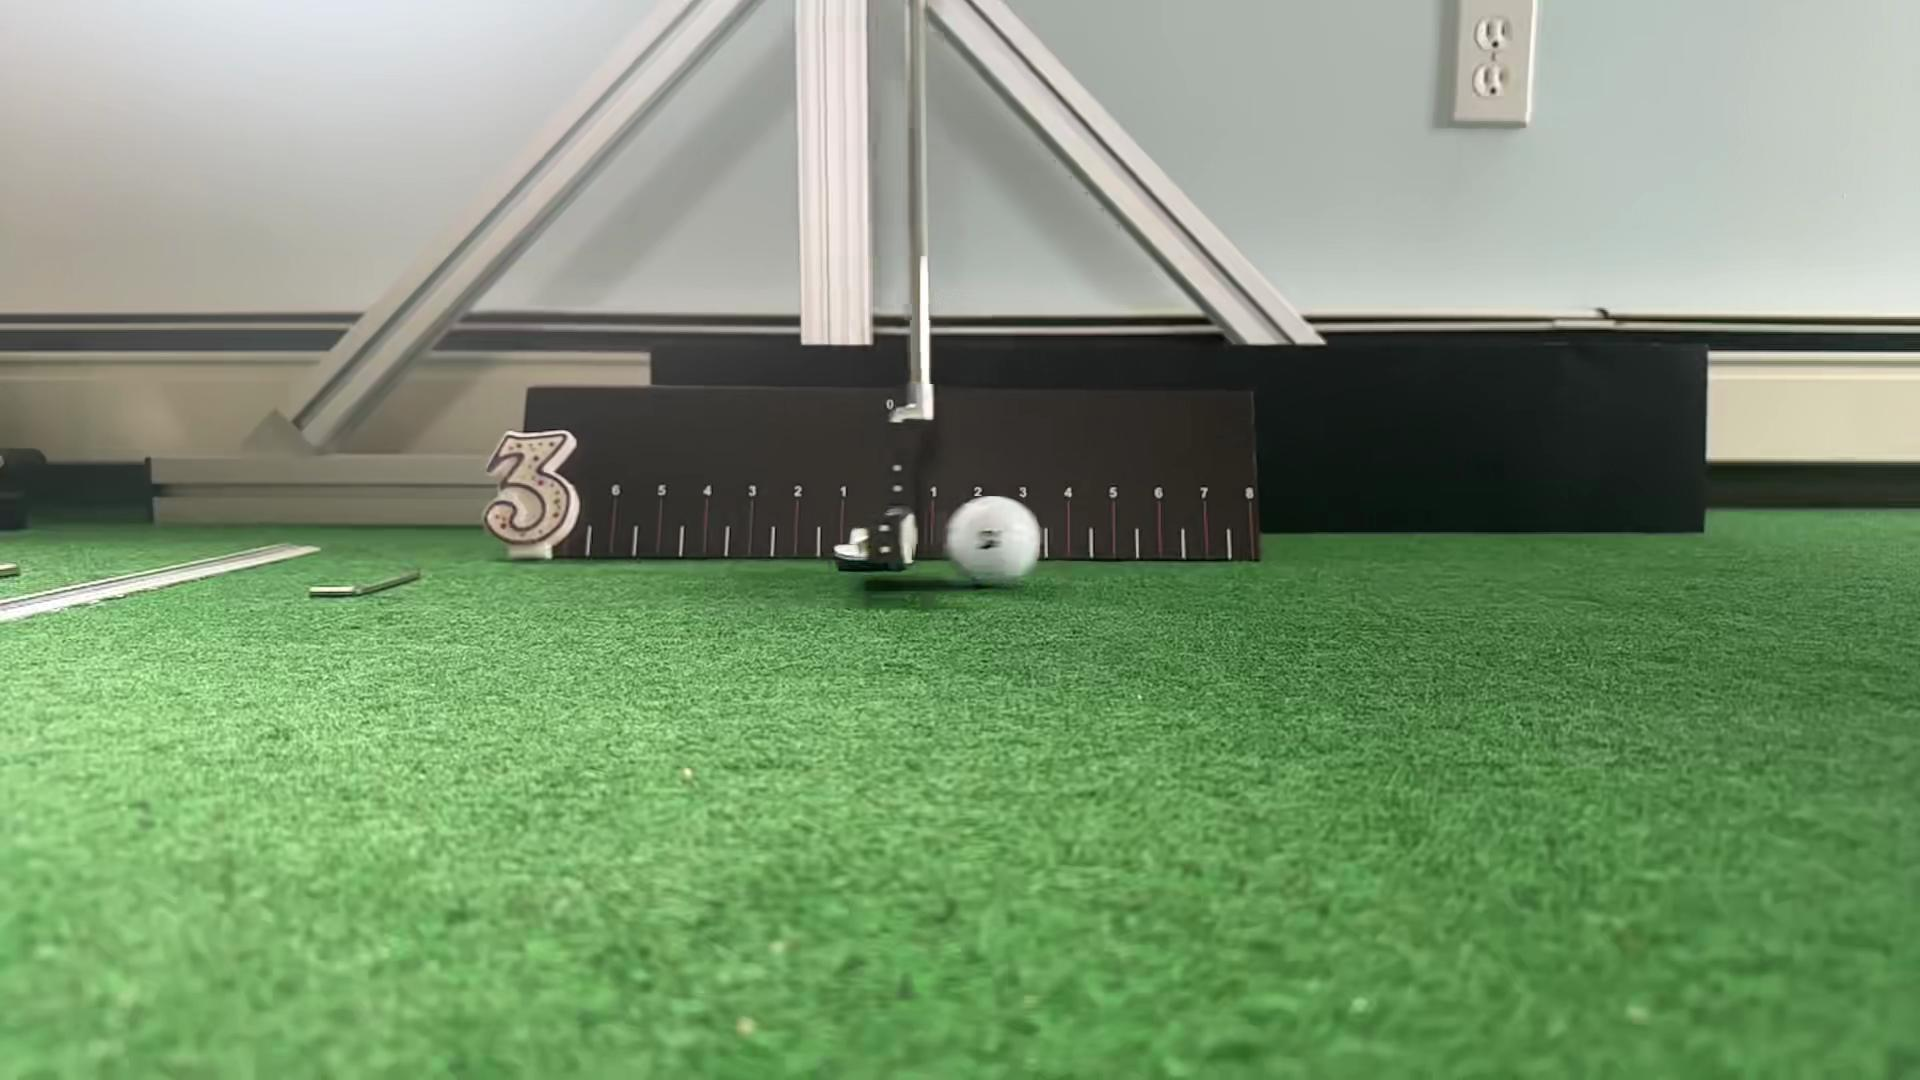golfball: (947, 497, 1041, 585)
